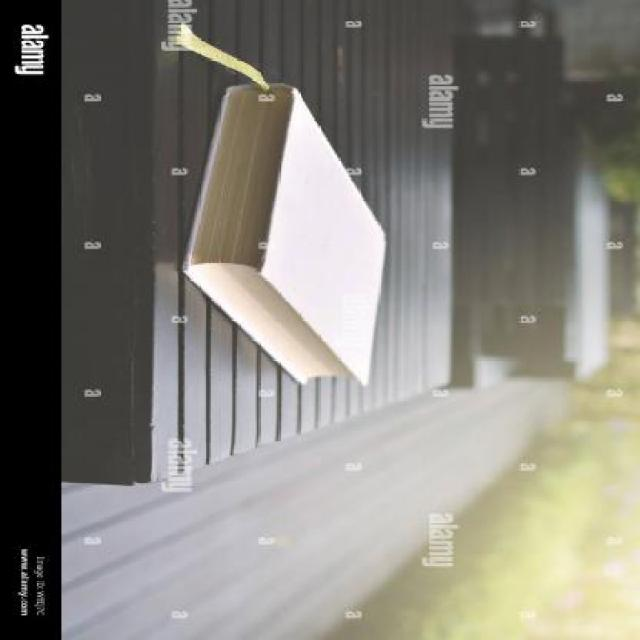book: (175, 22, 402, 446)
